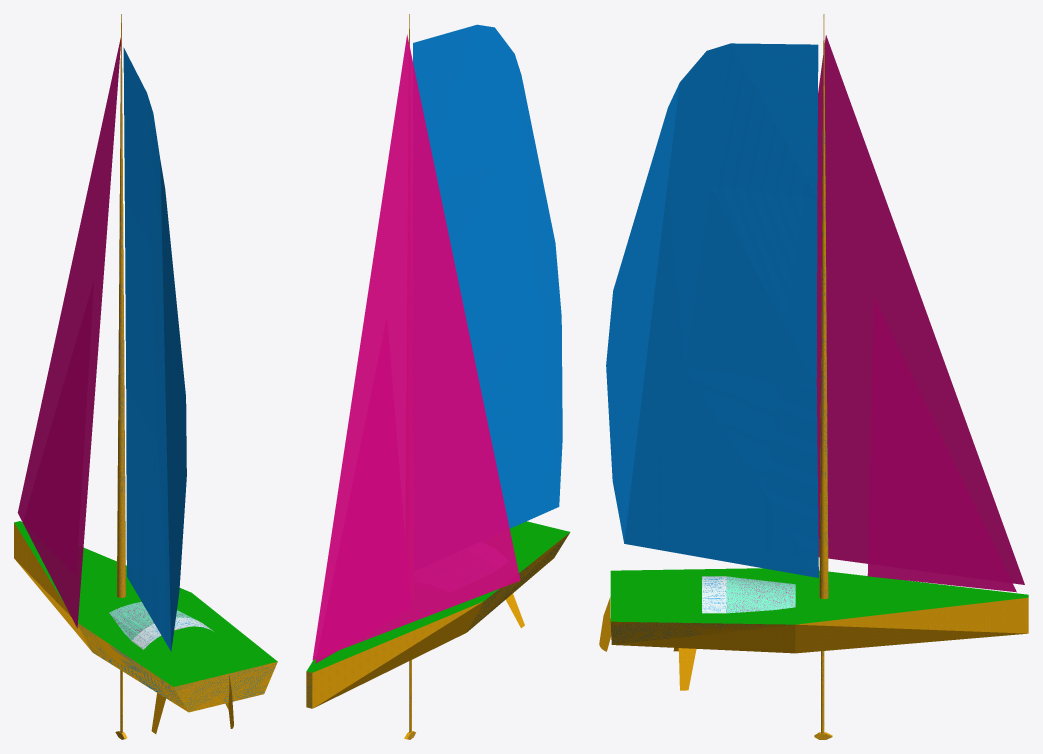
File: genois_tribord_monocoque.dae
3 views of the same model, side by side, from view 1: azimuth 30°, elevation 25°; view 2: azimuth 150°, elevation 25°; view 3: azimuth 270°, elevation 25° (orthographic).
Visible parts, largest first — view 1: SketchUp (×8); view 2: SketchUp (×5); view 3: SketchUp (×9).
Part boxes in pixels (x1,y1,x2,y2): SketchUp (×8): (14,14,277,712); SketchUp (×5): (306,24,569,708); SketchUp (×9): (606,14,1028,653).
Size of the model in its own units: 26158 by 72816 by 135626.
